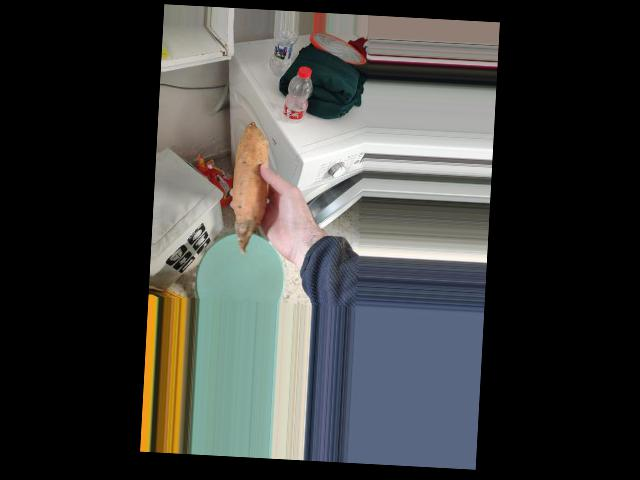sweet_potato: (232, 124, 268, 237)
